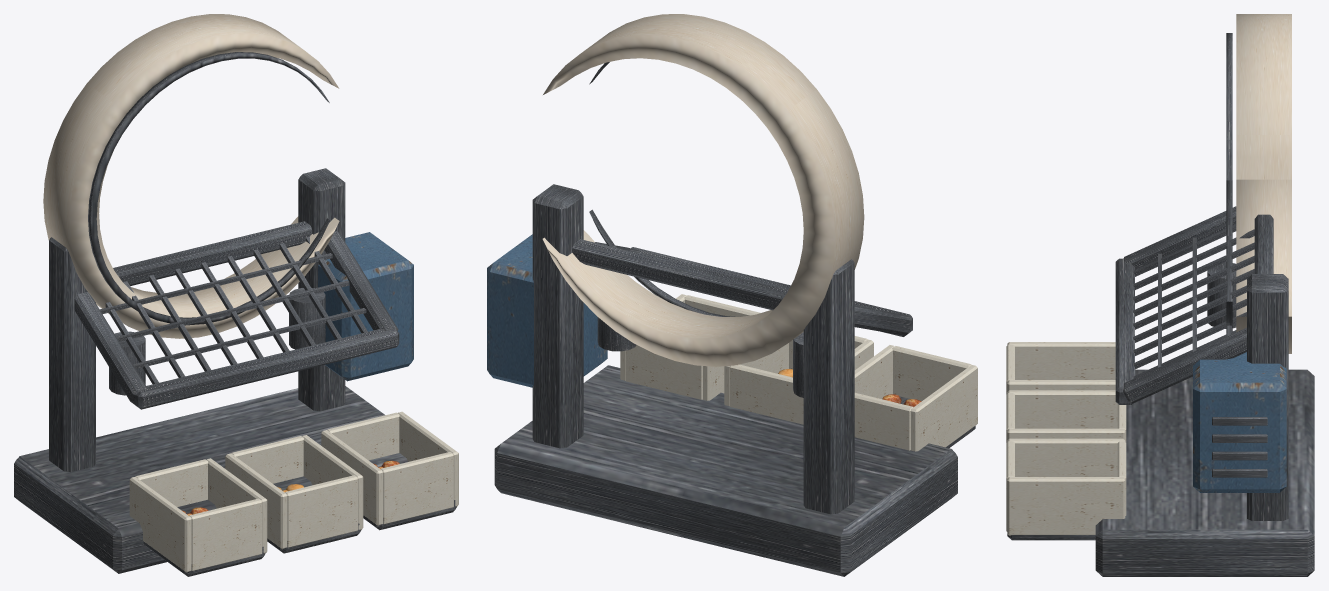
Rendered from revised-03-02.glb.
The picture shows the model from 3 angles, left to right: view 1: azimuth 30°, elevation 25°; view 2: azimuth 150°, elevation 25°; view 3: azimuth 270°, elevation 25°; orthographic projection. The views are drawn at different scales.
Parts seen in each view (by area): view 1: moon_sorter; view 2: moon_sorter; view 3: moon_sorter.
Part boxes in pixels (bbox=[...]): moon_sorter: bbox=[14, 14, 458, 576]; moon_sorter: bbox=[487, 14, 977, 576]; moon_sorter: bbox=[1006, 14, 1314, 576].
Bounding box in the file's own units: 1.21 × 1.48 × 0.8875.
Materials: 2 (2 with a texture image).
